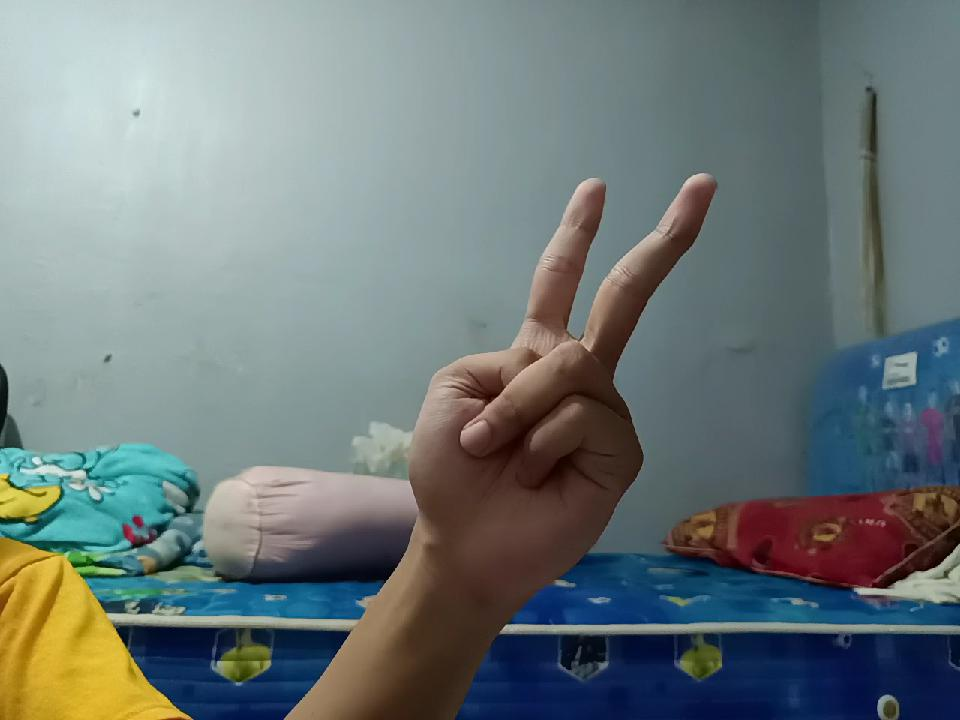scissors: (403, 143, 671, 618)
